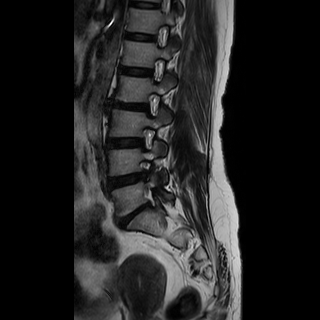LFS0: (140, 87, 165, 121), (144, 54, 169, 88), (133, 122, 159, 153)
